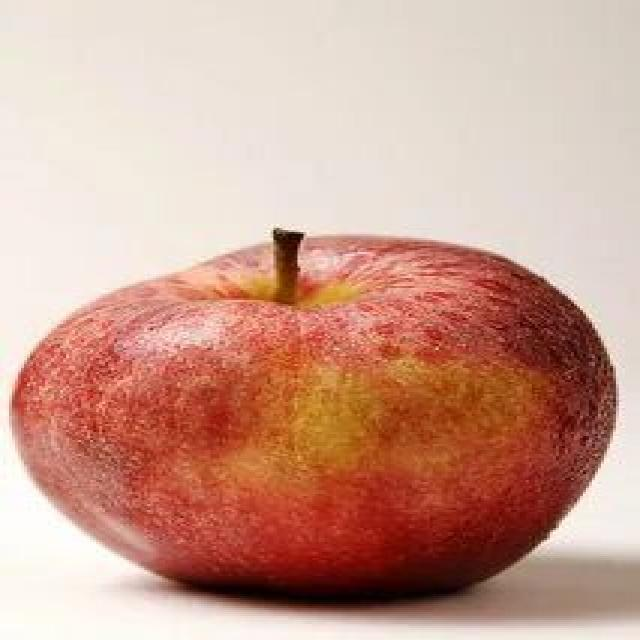Fresh Apple: (17, 235, 603, 613)
